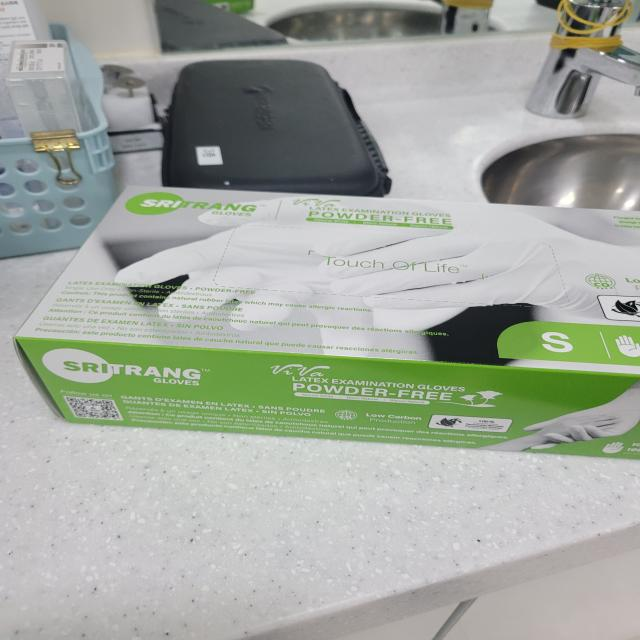glove: (10, 164, 640, 487)
